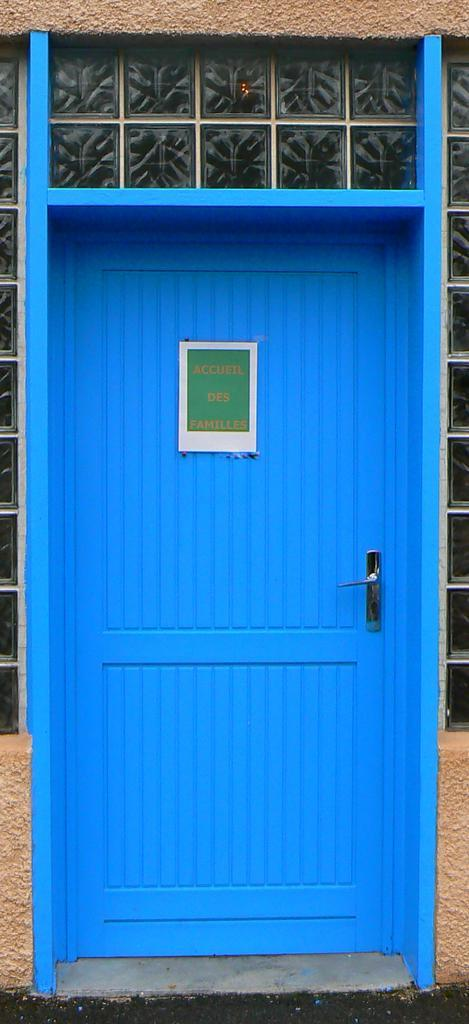door: (52, 244, 398, 968)
handle: (342, 554, 379, 608)
